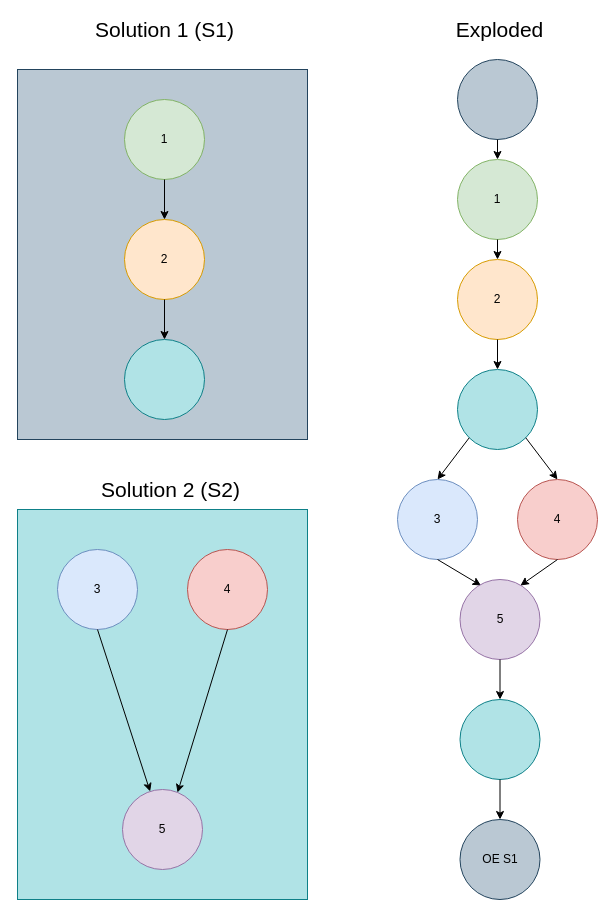
The diagram is 615 pixels wide and 917 high, and some of its shapes have lost their labels. The centre of each missing label's shape, as x and y in pixels:
OE S2: (499,739)
OS S1: (497,99)
OS S2: (497,409)
S2: (164,379)
